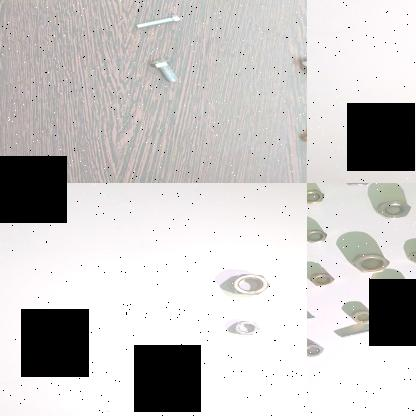Bolts: (130, 10, 187, 31), (338, 320, 390, 340), (150, 56, 184, 83), (295, 46, 307, 83)
NUTS: (223, 272, 273, 298), (376, 198, 412, 219), (377, 281, 416, 299), (228, 318, 265, 336), (357, 252, 389, 272), (311, 268, 337, 286), (350, 309, 376, 323), (307, 340, 328, 357), (307, 188, 327, 204), (307, 228, 327, 243), (408, 250, 416, 264)
